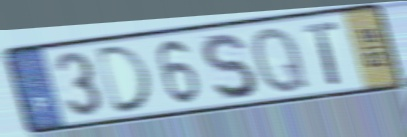3: (53, 50, 104, 120)
6: (156, 37, 204, 106)
D: (93, 41, 156, 117)
Q: (250, 23, 313, 96)
S: (199, 31, 259, 103)
T: (300, 19, 343, 87)
